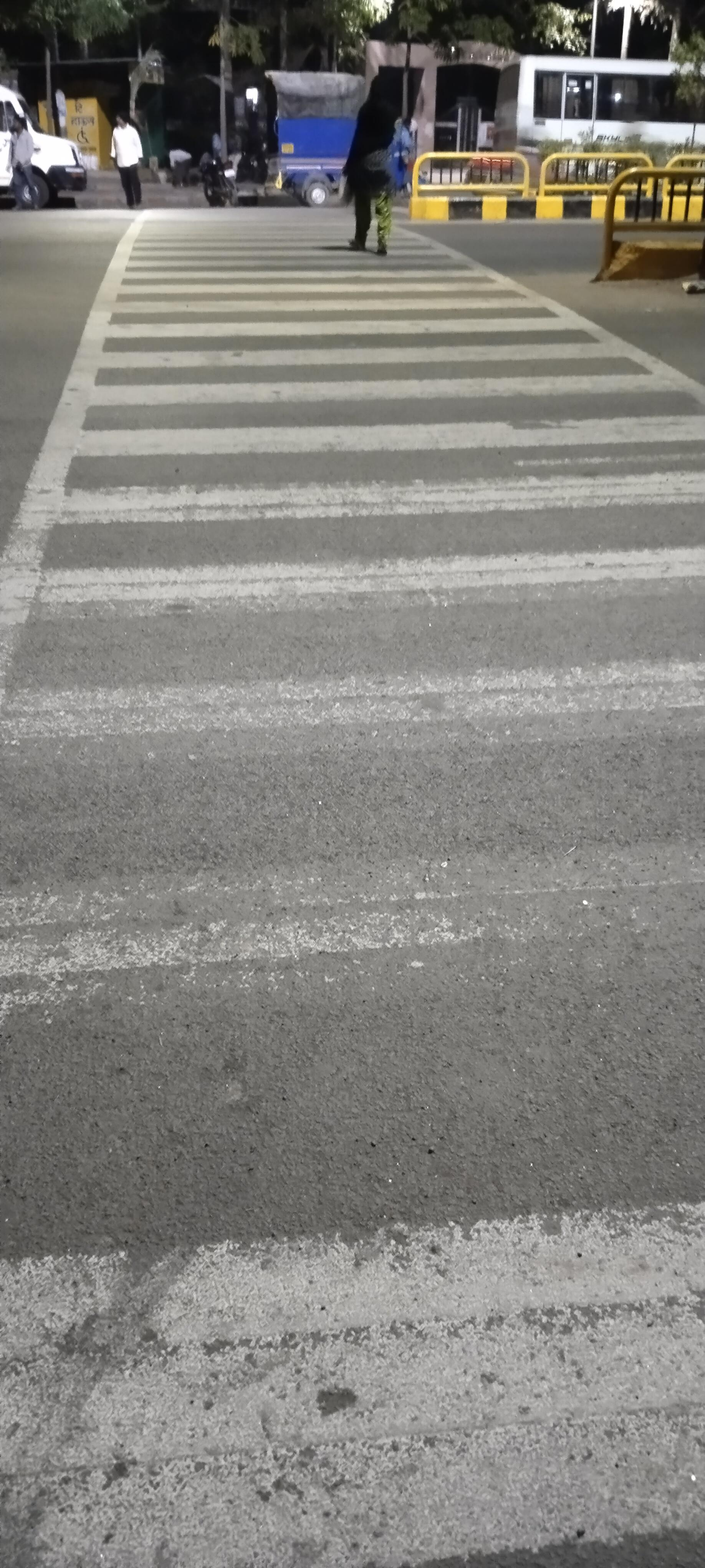crosswalk: (0, 185, 705, 1565)
